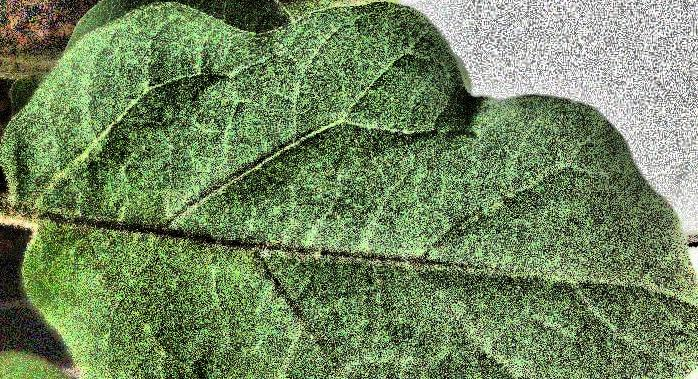HEALTHY: (1, 1, 698, 379)
